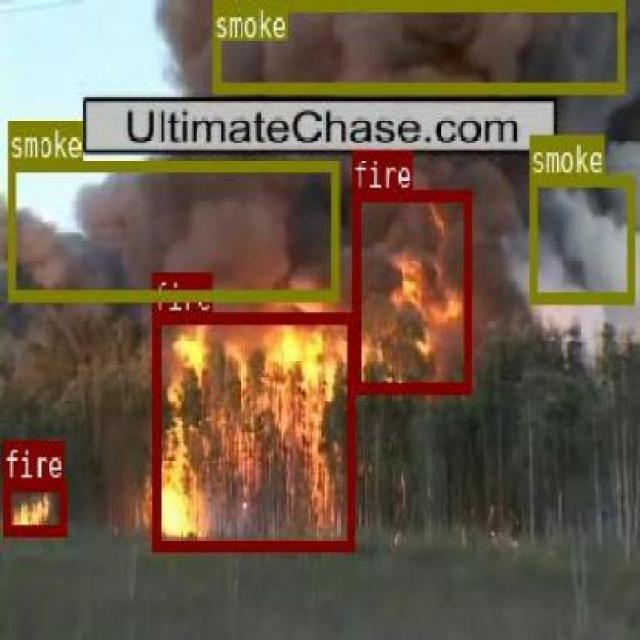Fire: (151, 312, 354, 548), (350, 188, 470, 392), (2, 478, 66, 534)
Smoke: (8, 158, 337, 299), (211, 0, 624, 89), (530, 172, 632, 303)
